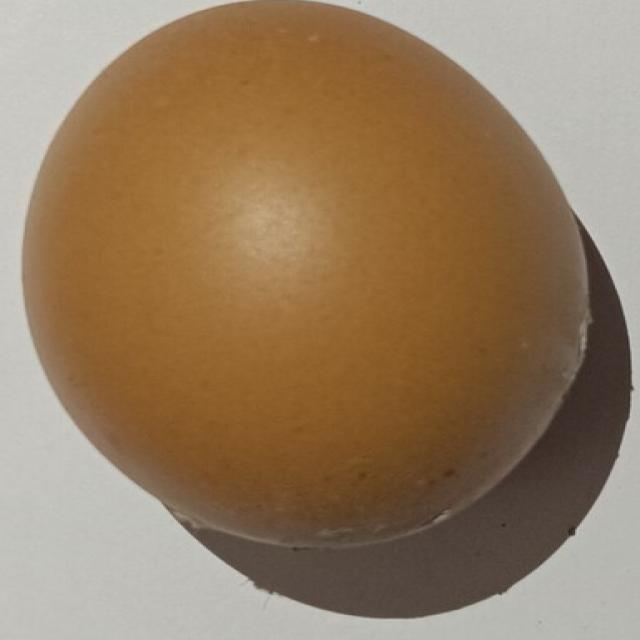fresh: (16, 4, 594, 545)
